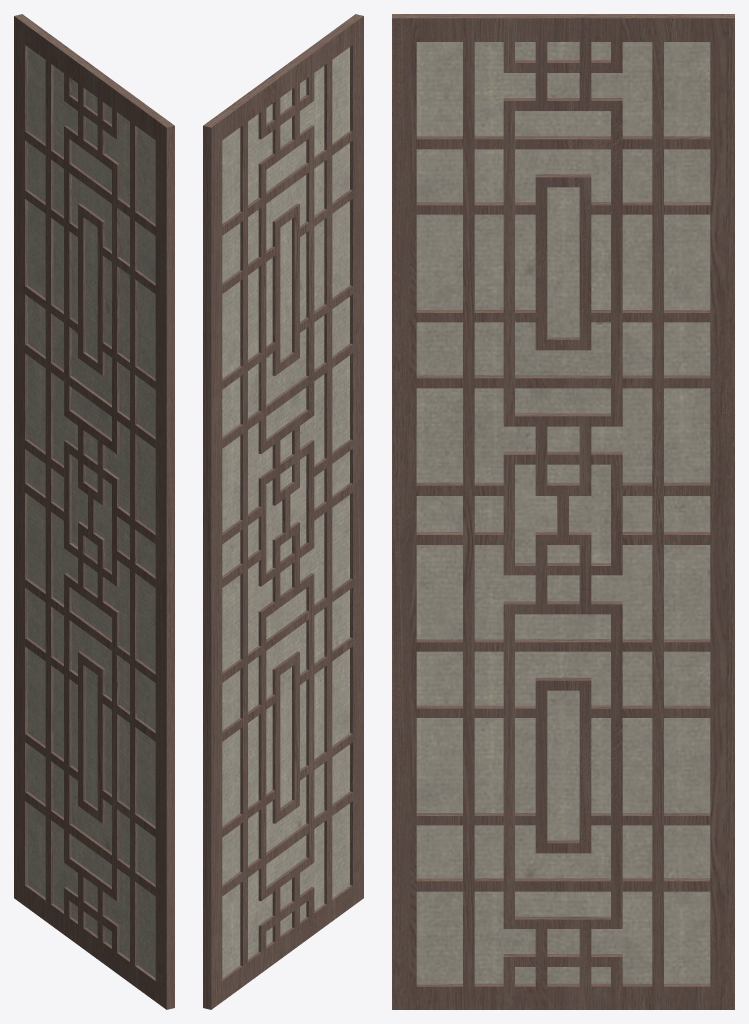
3 renders of one model, left to right at view 1: azimuth 30°, elevation 25°; view 2: azimuth 150°, elevation 25°; view 3: azimuth 270°, elevation 25°, orthographic. The views are drawn at different scales.
Visible parts, largest first — view 1: ST-门; view 2: ST-门; view 3: ST-门.
Part boxes in pixels (x1,y1,x2,y2): ST-门: (14,14,174,1009); ST-门: (203,14,363,1009); ST-门: (392,14,734,1009).
Bounding box in the file's own units: 0.0303 × 0.9813 × 3.13.
